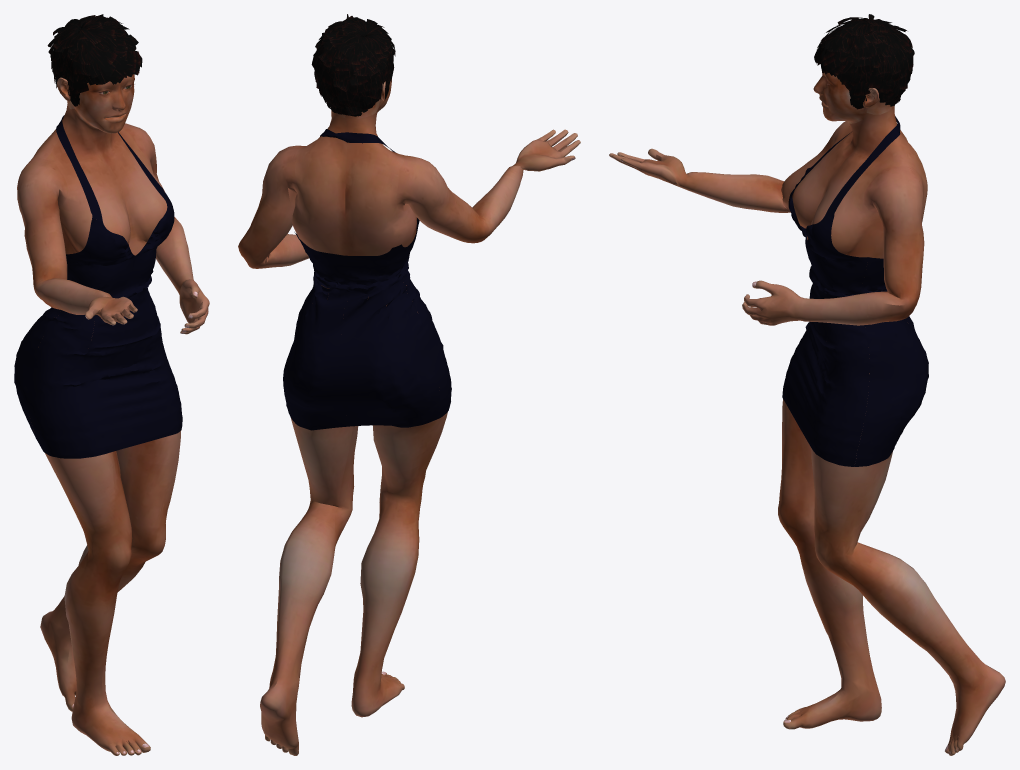
Rendered from woman.glb.
3 views of the same model, side by side, from view 1: azimuth 30°, elevation 25°; view 2: azimuth 150°, elevation 25°; view 3: azimuth 270°, elevation 25° (orthographic). The views are drawn at different scales.
Visible parts, largest first — view 1: Object_7, Object_12, Object_11; view 2: Object_7, Object_12, Object_11; view 3: Object_7, Object_12, Object_11.
Part boxes in pixels (left/top/right/bottom): Object_7: left=17, top=74, right=209, bottom=755; Object_12: left=14, top=115, right=182, bottom=458; Object_11: left=47, top=14, right=142, bottom=106; Object_7: left=238, top=79, right=580, bottom=755; Object_12: left=283, top=129, right=451, bottom=430; Object_11: left=311, top=14, right=395, bottom=116; Object_7: left=609, top=72, right=1005, bottom=755; Object_12: left=782, top=116, right=928, bottom=466; Object_11: left=814, top=14, right=914, bottom=109.
Size of the model in its own units: 24.39 by 77.69 by 38.53.
Materials: 11 (10 with a texture image).
